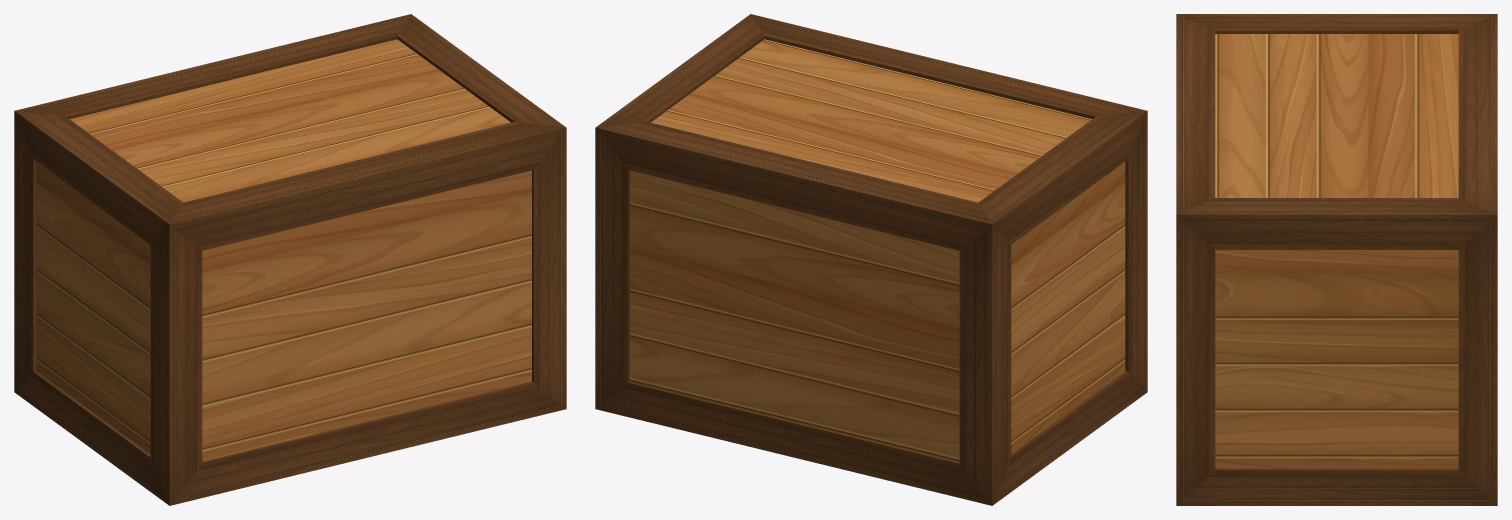
The model's file is Crate3.fbx.
The picture shows the model from 3 angles, left to right: view 1: azimuth 30°, elevation 25°; view 2: azimuth 150°, elevation 25°; view 3: azimuth 270°, elevation 25°; orthographic projection. The views are drawn at different scales.
Visible parts, largest first — view 1: Crate3; view 2: Crate3; view 3: Crate3.
Part boxes in pixels (x1,y1,x2,y2): Crate3: [14, 14, 566, 505]; Crate3: [595, 14, 1147, 505]; Crate3: [1176, 14, 1497, 505].
Bounding box in the file's own units: 3.02 × 2.05 × 2.05.
